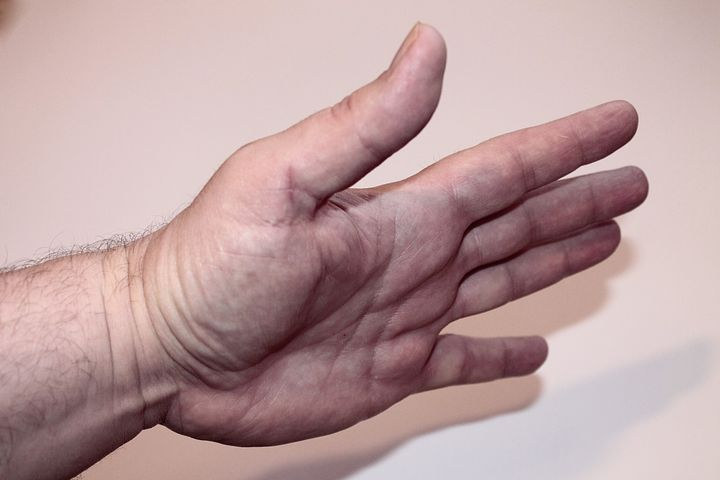palmhand: (160, 100, 644, 449)
